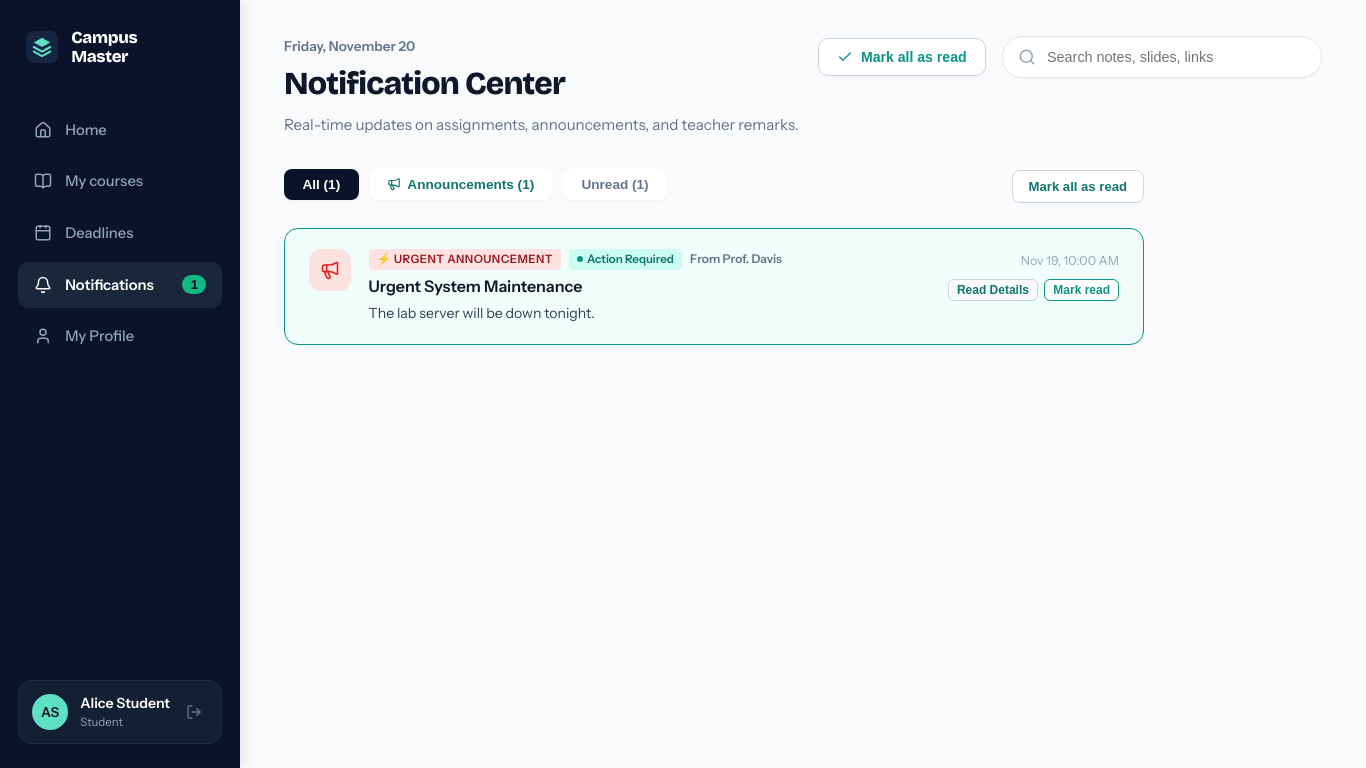
StudentDashboard Announcement & Notification Read Status › allows marking an unread announcement as read and triggers API patch
This screenshot has width=1366, height=768.
Expected: the button "Unread (1)" is shown, [563,169,667,200]
Click 'Mark read' button
Click the button "Mark read".
click(1082, 290)  # box [1044,279,1119,301]
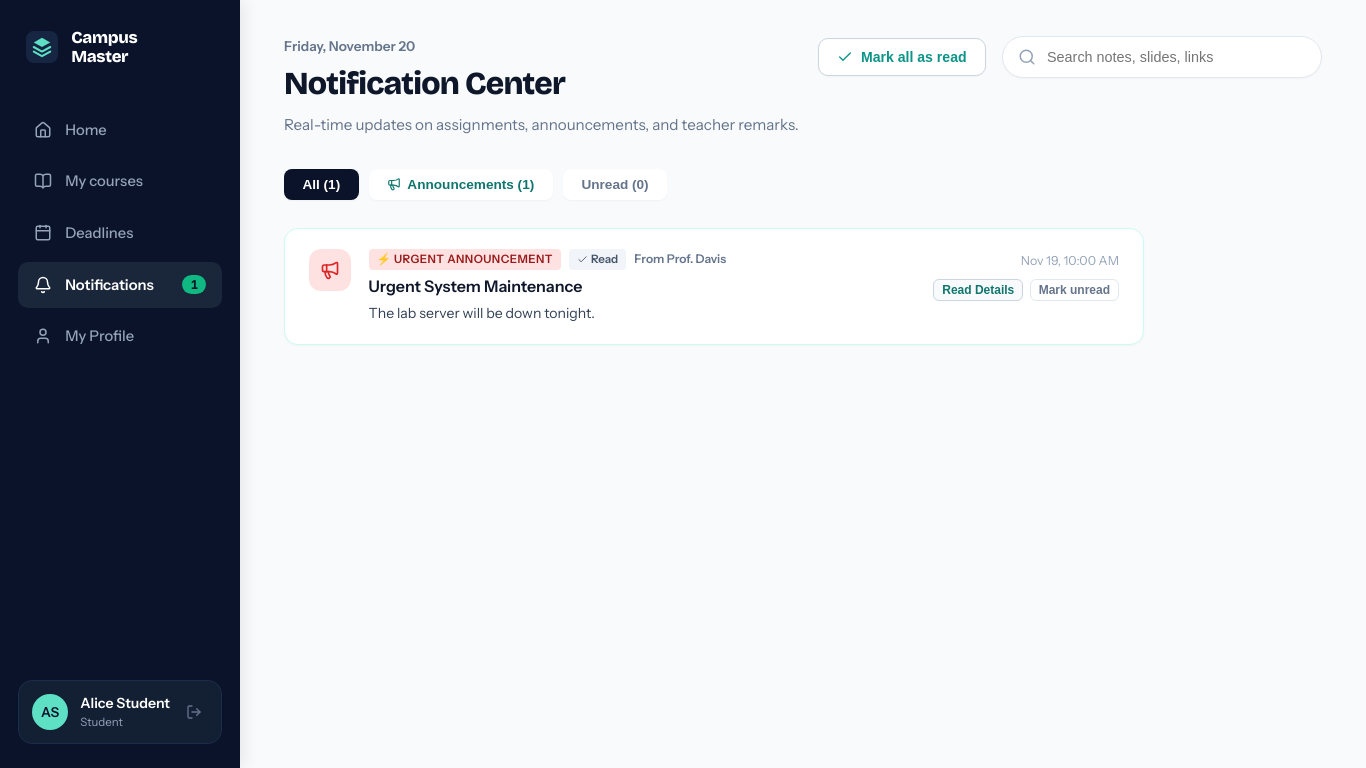
Expected: the text "Read" is shown, [569,249,626,270]
